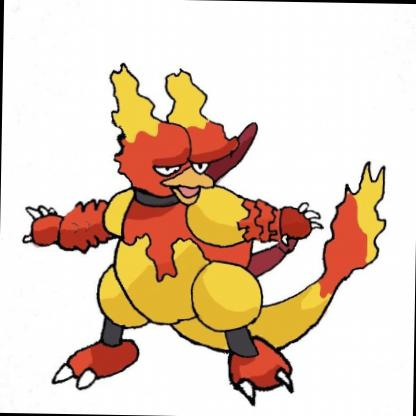Magmar: (1, 26, 416, 416)
